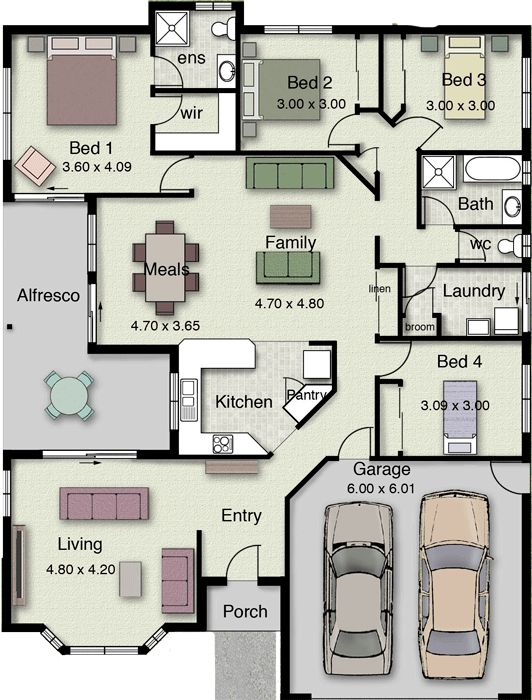door: (216, 536, 263, 577), (379, 340, 422, 379), (329, 418, 372, 457), (402, 111, 444, 146), (487, 458, 522, 494), (154, 159, 187, 192), (156, 54, 185, 88), (325, 113, 354, 147), (157, 92, 186, 126), (460, 231, 491, 262), (422, 194, 451, 223), (360, 144, 387, 171)
